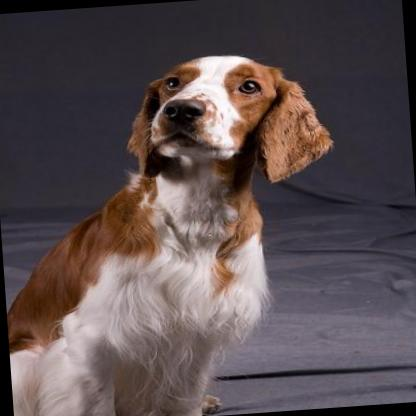Welsh_springer_spaniel: (0, 45, 352, 416)
